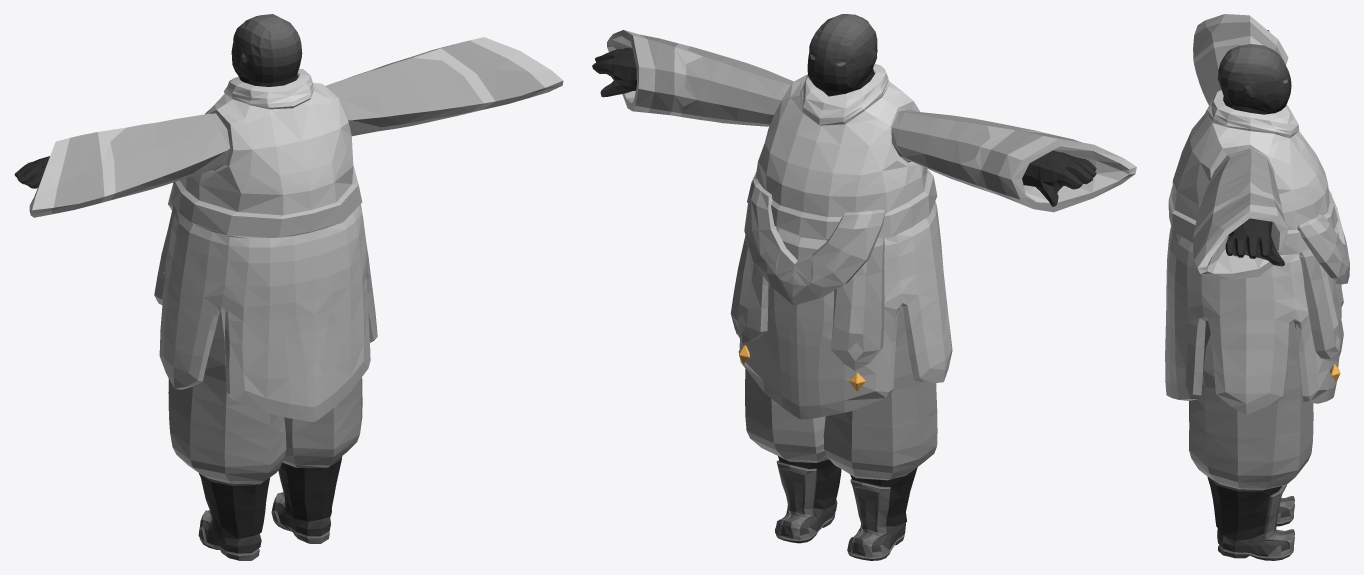
Rendered from NPC_AP25Tunic.glb.
3 renders of one model, left to right at view 1: azimuth 30°, elevation 25°; view 2: azimuth 150°, elevation 25°; view 3: azimuth 270°, elevation 25°, orthographic. The views are drawn at different scales.
Parts seen in each view (by area): view 1: NPC_AP25Tunic; view 2: NPC_AP25Tunic; view 3: NPC_AP25Tunic.
Boxes of the visible parts, x1,y1,x2,y2 form: NPC_AP25Tunic: (14, 14, 563, 560); NPC_AP25Tunic: (592, 14, 1136, 560); NPC_AP25Tunic: (1165, 14, 1349, 560).
Size of the model in its own units: 14.94 by 14.01 by 4.8.
1 material, 1 textured.
